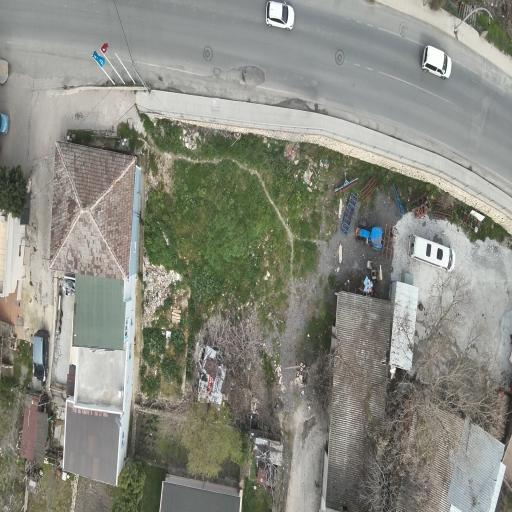car: (408, 235, 455, 271), (421, 46, 450, 78), (32, 330, 48, 381), (265, 0, 293, 29), (356, 222, 382, 250), (0, 114, 8, 134)
